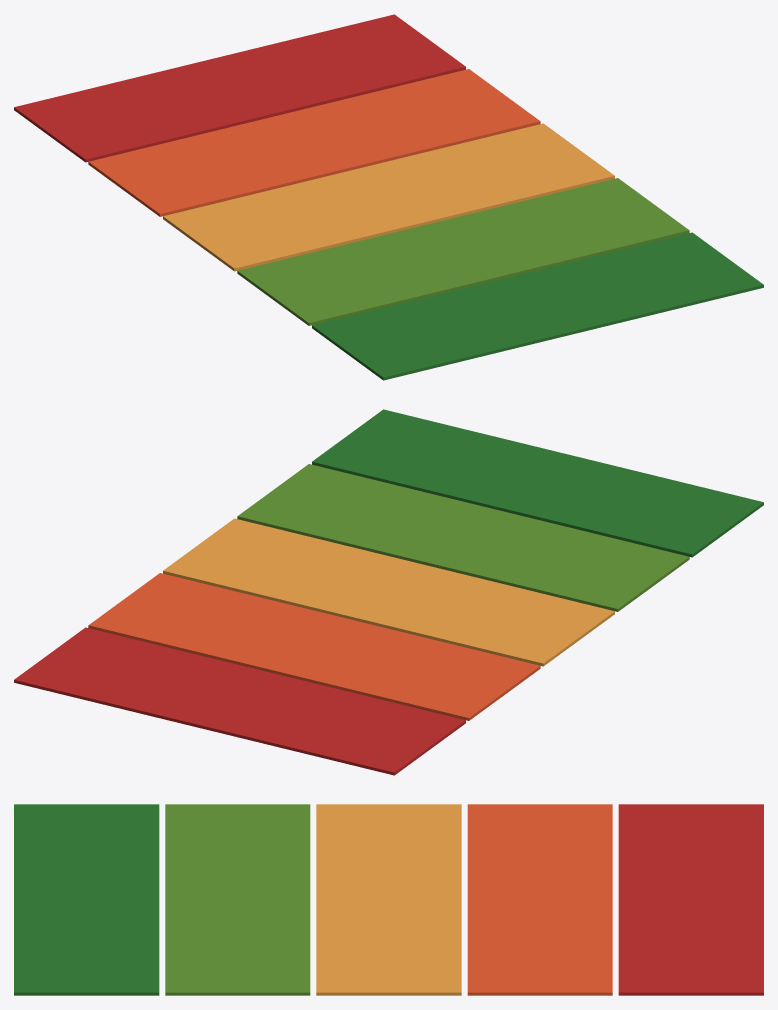
The model's file is MainPieceV2_Score_Colour.fbx.
3 views of the same model, one above another, from view 1: azimuth 30°, elevation 25°; view 2: azimuth 150°, elevation 25°; view 3: azimuth 270°, elevation 25° (orthographic).
Visible parts, largest first — view 1: Mark5, Mark4, Mark2, Mark1, Mark3; view 2: Mark1, Mark2, Mark4, Mark5, Mark3; view 3: Mark1, Mark2, Mark3, Mark4, Mark5.
Part boxes in pixels (bbox=[...]): Mark5: bbox=[312, 232, 763, 380]; Mark4: bbox=[237, 178, 689, 325]; Mark2: bbox=[88, 69, 540, 216]; Mark1: bbox=[14, 14, 465, 162]; Mark3: bbox=[163, 123, 614, 271]; Mark1: bbox=[14, 627, 465, 775]; Mark2: bbox=[88, 573, 540, 720]; Mark4: bbox=[237, 464, 689, 611]; Mark5: bbox=[312, 409, 763, 557]; Mark3: bbox=[163, 518, 614, 666]; Mark1: bbox=[618, 804, 763, 995]; Mark2: bbox=[467, 804, 612, 995]; Mark3: bbox=[316, 804, 461, 995]; Mark4: bbox=[165, 804, 310, 995]; Mark5: bbox=[14, 804, 159, 995].
Bounding box in the file's own units: 392 × 2.87 × 659.
Materials: 1 (1 with a texture image).
